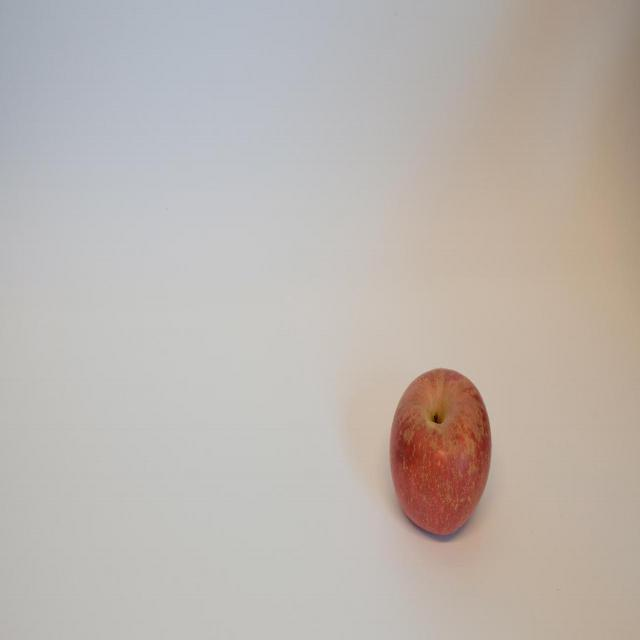apple: (388, 366, 492, 538)
